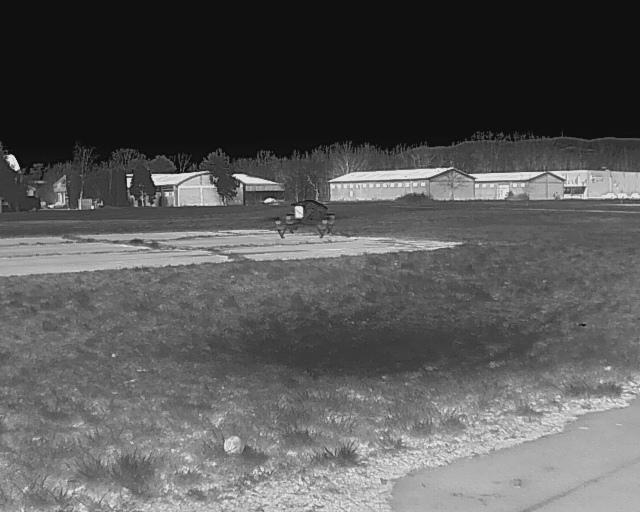drone: (260, 199, 342, 245)
